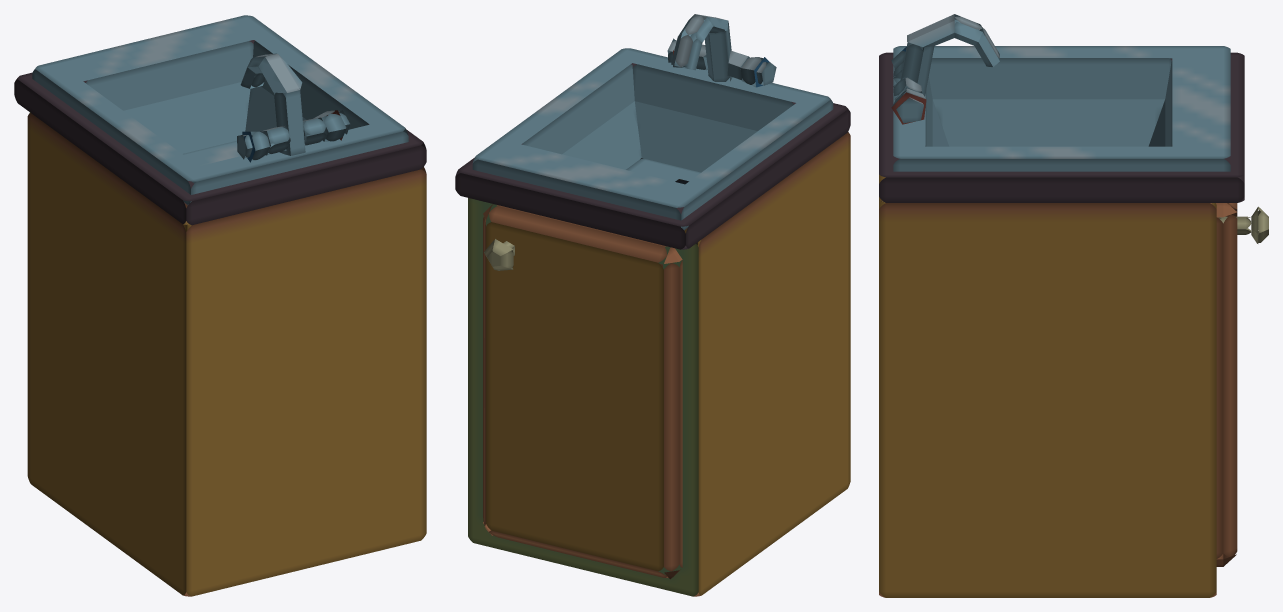
Rendered from Sink_hollow_clean.fbx.
3 views of the same model, side by side, from view 1: azimuth 30°, elevation 25°; view 2: azimuth 150°, elevation 25°; view 3: azimuth 270°, elevation 25° (orthographic). The views are drawn at different scales.
Parts seen in each view (by area): view 1: sinkcabinetopen; view 2: sinkcabinetopen, sigoodnk door.001; view 3: sinkcabinetopen, sigoodnk door.001.
Boxes of the visible parts, box(x1,y1,x2,y2) form: sinkcabinetopen: box(14, 15, 426, 596); sinkcabinetopen: box(455, 14, 850, 596); sigoodnk door.001: box(483, 204, 682, 579); sinkcabinetopen: box(879, 14, 1244, 597); sigoodnk door.001: box(1210, 203, 1268, 566).
Bounding box in the file's own units: 63.23 × 123 × 83.46.
